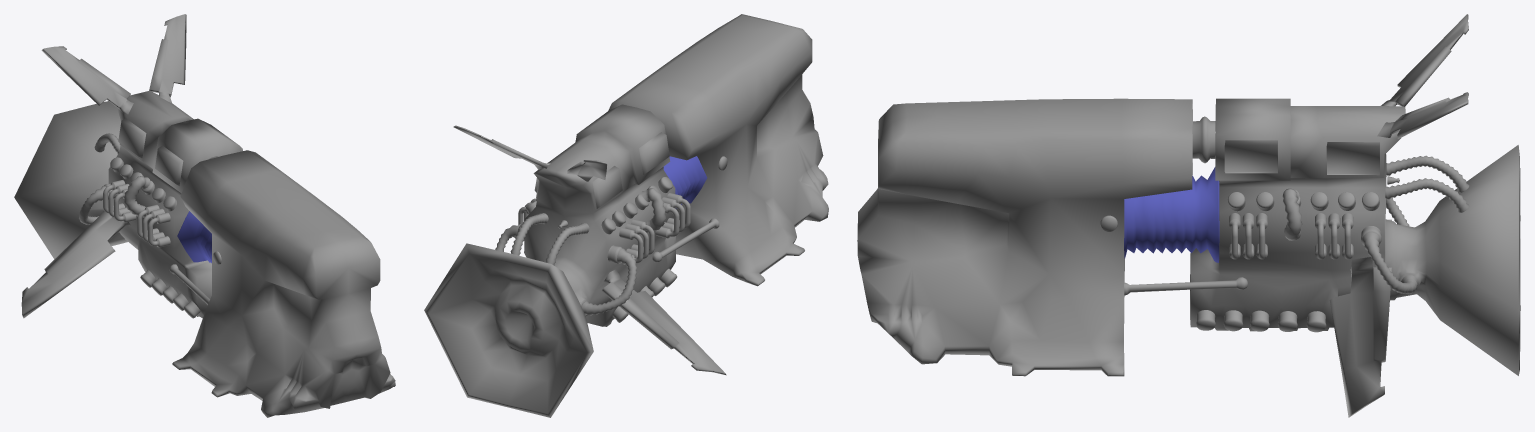
File: SM_Spacefrigate.FBX
3 renders of one model, left to right at view 1: azimuth 30°, elevation 25°; view 2: azimuth 150°, elevation 25°; view 3: azimuth 270°, elevation 25°, orthographic. The views are drawn at different scales.
Parts seen in each view (by area): view 1: Spacefrigate; view 2: Spacefrigate; view 3: Spacefrigate.
Boxes of the visible parts, x1=… form: Spacefrigate: x1=14, y1=14, x2=395, y2=417; Spacefrigate: x1=424, y1=14, x2=828, y2=417; Spacefrigate: x1=857, y1=14, x2=1520, y2=417.
Bounding box in the file's own units: 5364 × 8865 × 4352.
